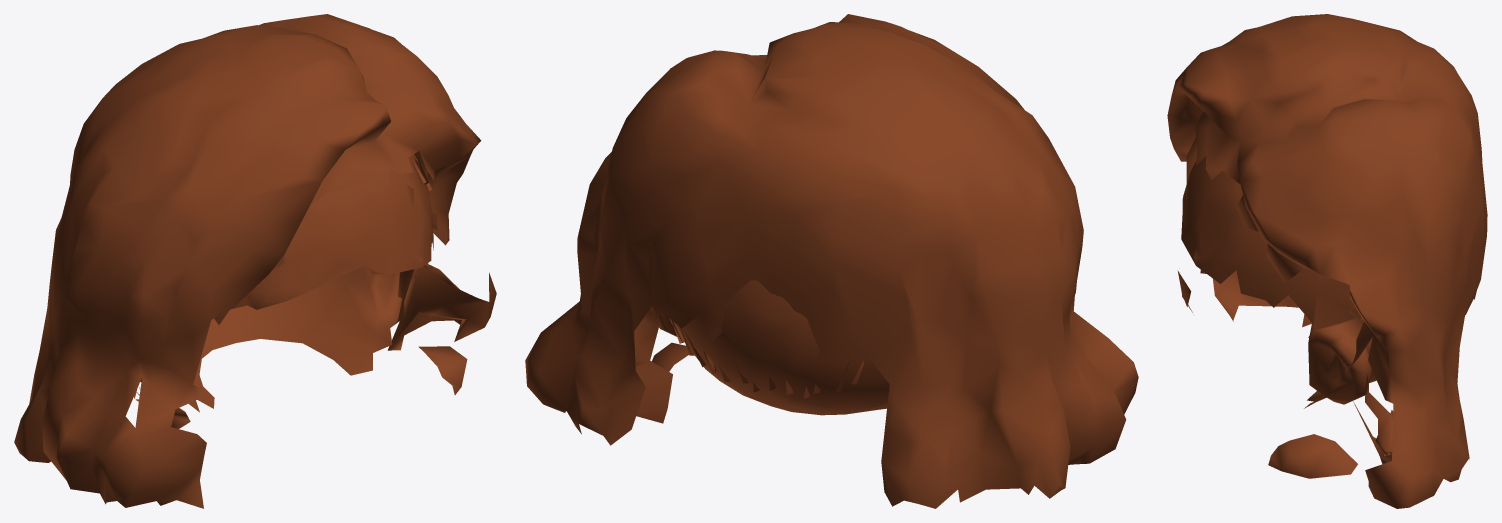
Rendered from long-wavy.glb.
The picture shows the model from 3 angles, left to right: view 1: azimuth 30°, elevation 25°; view 2: azimuth 150°, elevation 25°; view 3: azimuth 270°, elevation 25°; orthographic projection. The views are drawn at different scales.
Parts seen in each view (by area): view 1: Hair, HairScalp; view 2: Hair, HairScalp, HairPulledRootStrands; view 3: Hair, HairScalp.
Boxes of the visible parts, <box> form: Hair: <box>14,14,496,508</box>; HairScalp: <box>140,155,433,412</box>; Hair: <box>525,14,1138,508</box>; HairScalp: <box>650,280,889,415</box>; HairPulledRootStrands: <box>671,290,863,398</box>; Hair: <box>1167,14,1487,508</box>; HairScalp: <box>1181,156,1466,408</box>.
Size of the model in its own units: 0.815 by 0.5675 by 0.459.
